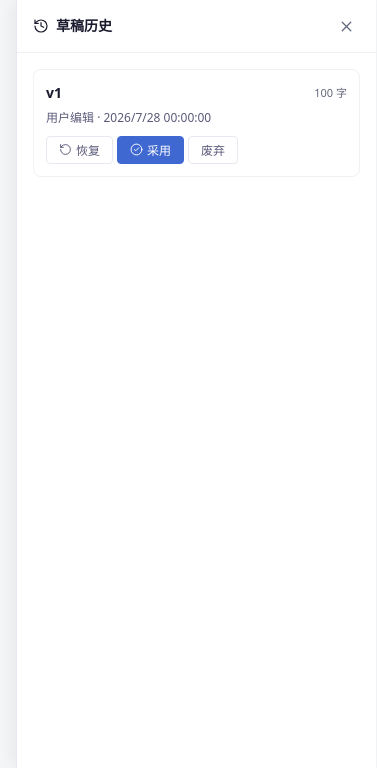
Scenario: DraftHistoryPanel › clears a pending draft-history message timer when the panel unmounts
Expected: the element with test id "draft-history-item" is shown, x1=33 y1=69 x2=360 y2=177
What coordinates should you click on to do the following:
click the button "废弃"
I would click on:
 (213, 150)
Its box is x1=188 y1=136 x2=238 y2=164.
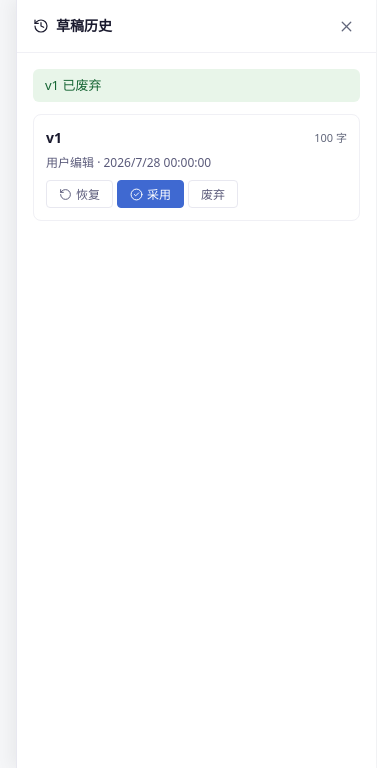
Expected: the text "v1 已废弃" is shown, x1=33 y1=69 x2=360 y2=102
